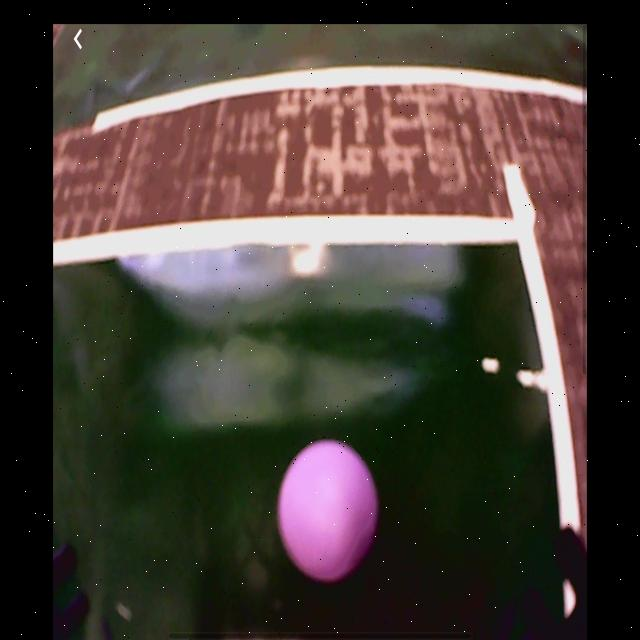ball: (276, 438, 380, 581)
